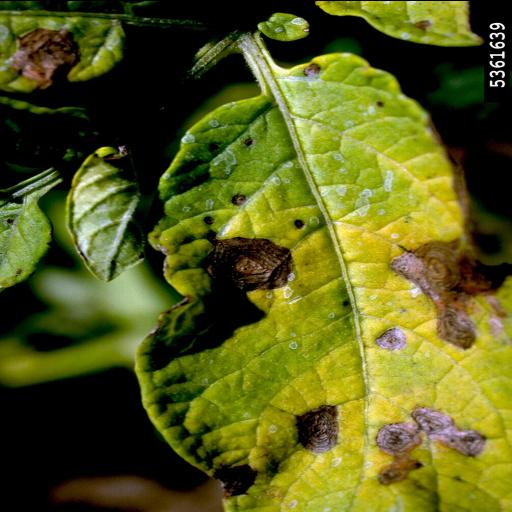disease_tomato: (140, 48, 512, 512), (0, 0, 126, 95)
